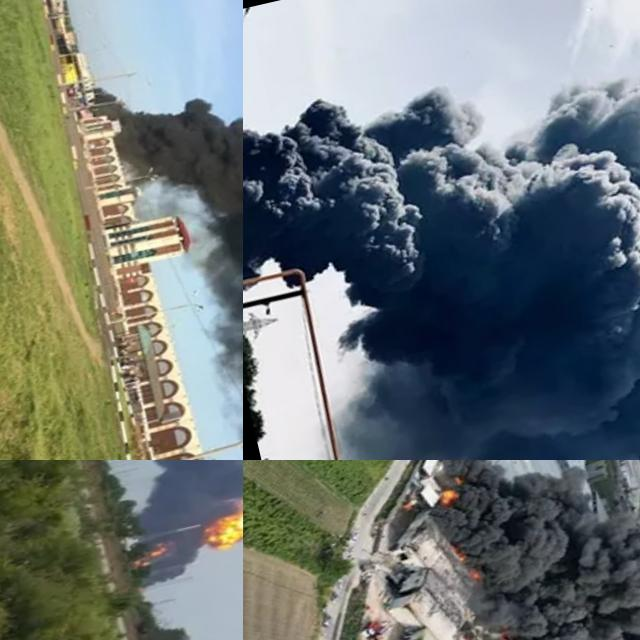smoke: (243, 0, 640, 460), (90, 0, 243, 460), (410, 460, 640, 640), (61, 460, 243, 640)
